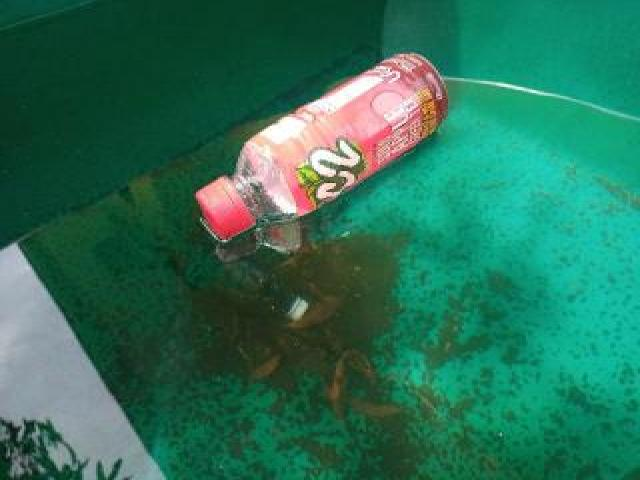Bottle: (182, 47, 458, 248)
